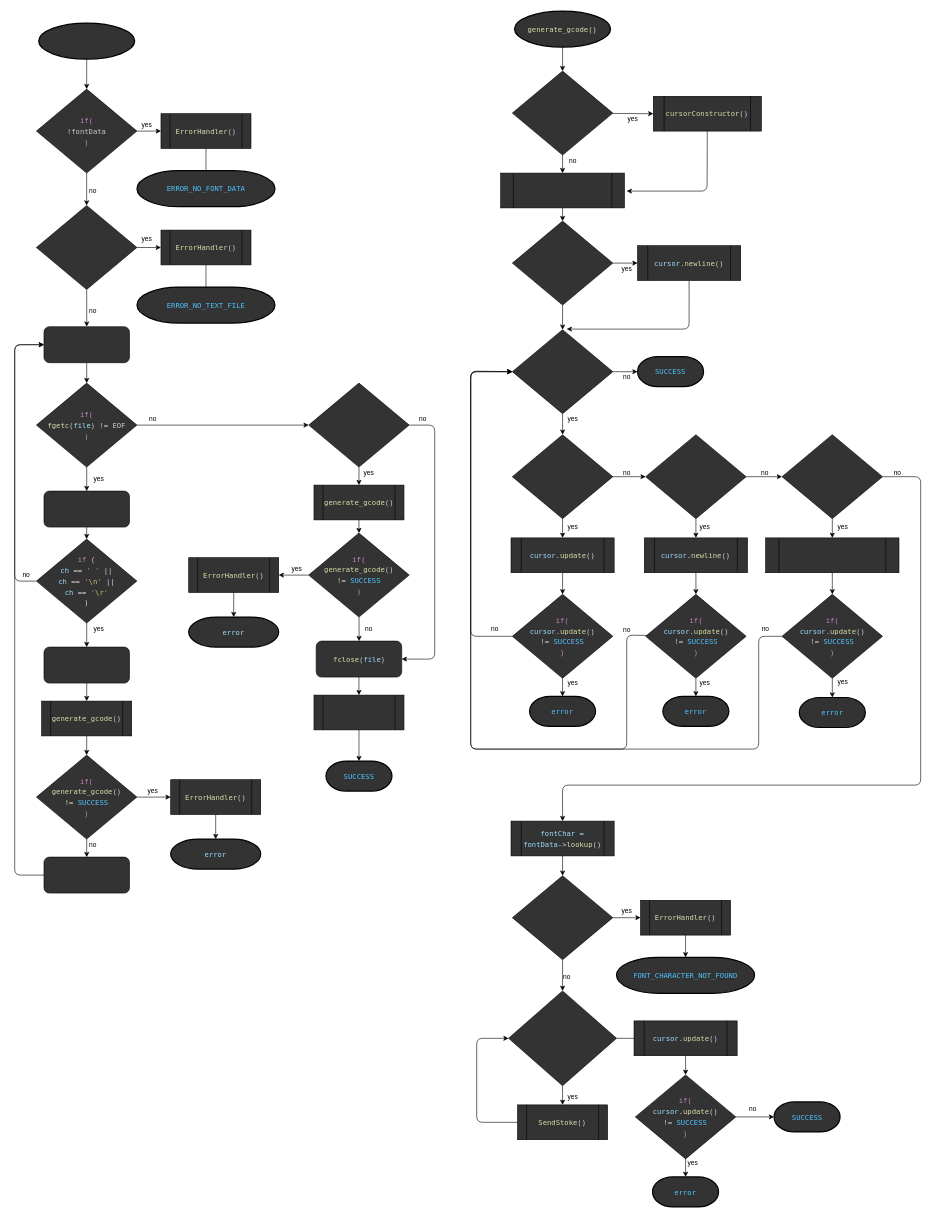
This 936x1217 diagram has some shape labels left out. The shapes that lost their labels are listed below. From the top down, each one's centre as x and y in pixels, then its label:
the point at 86,40: process_text_file ()
the point at 562,112: if( ! cursor . init )
the point at 562,190: cursor . testWord-Overflow ()
the point at 86,247: if( ! file )
the point at 562,262: if( cursor . testWord-Overflow () )
the point at 86,344: fgetc ( file )
the point at 562,371: if( * text != ' \0 ' )
the point at 358,424: if( index > 0 )
the point at 562,476: if( * text = = ' ' )
the point at 695,476: if( * text = = ' \n ' )
the point at 832,476: if( * text = = ' \r ' )
the point at 86,508: buff [ index ++ ] = ch ;
the point at 832,555: cursor . carriagereturn ()
the point at 86,664: buff [ index ++ ] = ' \0 ' ;
the point at 358,712: HomeRobot ()
the point at 86,874: index = 0
the point at 562,917: if( ! fontChar )
the point at 562,1038: for ( uint8_t i = 0 ; i < numStrokes ; i ++ )
